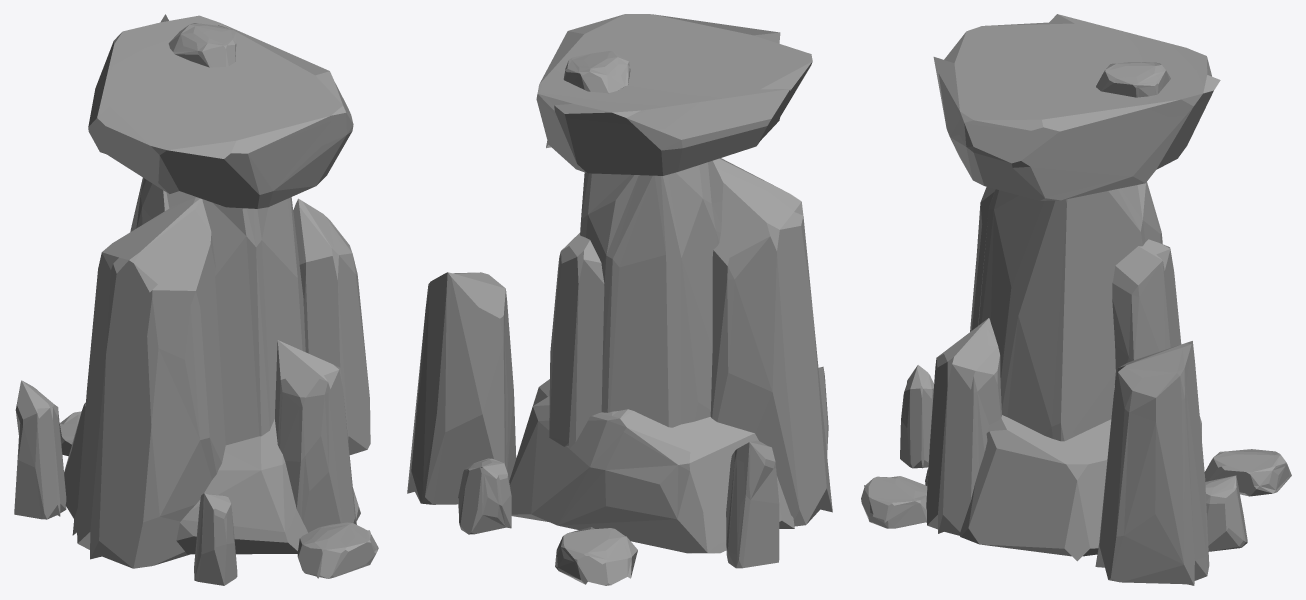
The model's file is RockTower-1.glb.
3 views of the same model, side by side, from view 1: azimuth 30°, elevation 25°; view 2: azimuth 150°, elevation 25°; view 3: azimuth 270°, elevation 25° (orthographic).
Visible parts, largest first — view 1: Rock_025; view 2: Rock_025; view 3: Rock_025.
Part boxes in pixels (x1,y1,x2,y2): Rock_025: (14, 14, 378, 585); Rock_025: (407, 14, 832, 585); Rock_025: (861, 14, 1291, 585).
Size of the model in its own units: 3.57 by 4.39 by 3.88.
Materials: 1 (1 with a texture image).
